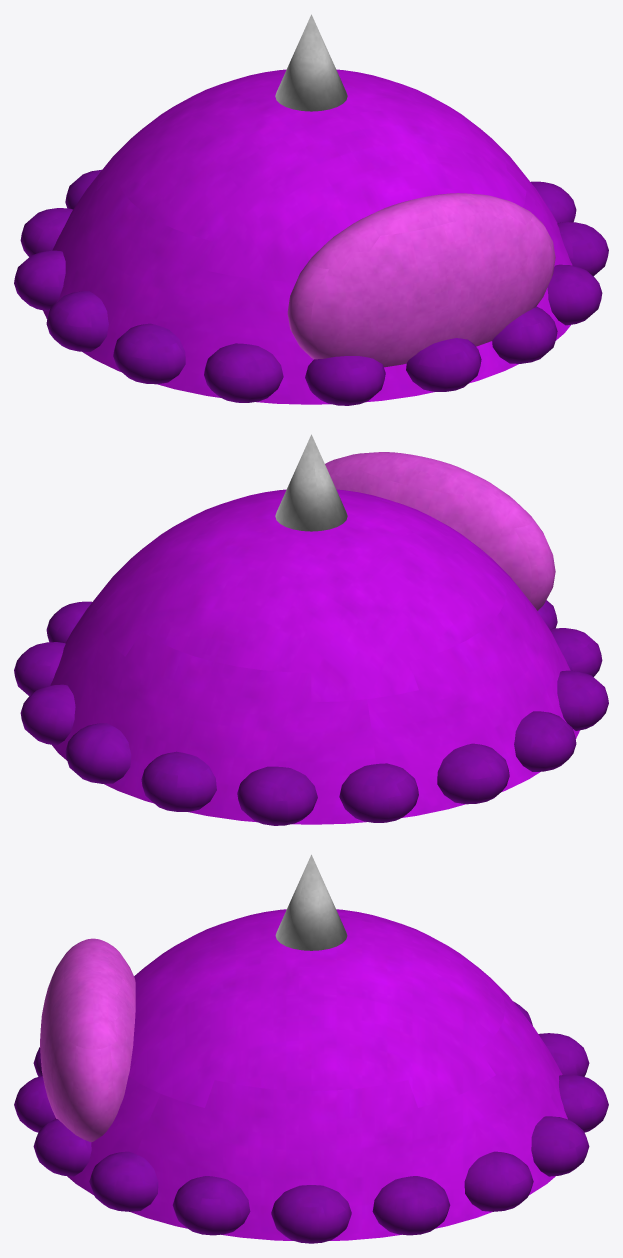
3 renders of one model, top to bottom at view 1: azimuth 30°, elevation 25°; view 2: azimuth 150°, elevation 25°; view 3: azimuth 270°, elevation 25°, orthographic.
Visible parts, largest first — view 1: Dome, Face, Skirt, Horn; view 2: Dome, Skirt, Face, Horn; view 3: Dome, Skirt, Face, Horn.
Part boxes in pixels (x1,y1,x2,y2): Dome: [43, 69, 572, 404]; Face: [287, 193, 555, 367]; Skirt: [14, 169, 608, 405]; Horn: [275, 14, 347, 111]; Dome: [50, 489, 579, 824]; Skirt: [14, 600, 608, 825]; Face: [325, 452, 555, 610]; Horn: [275, 434, 347, 531]; Dome: [55, 909, 567, 1240]; Skirt: [14, 1001, 608, 1243]; Face: [40, 938, 135, 1142]; Horn: [275, 854, 347, 950].
Size of the model in its own units: 0.736 by 0.377 by 0.736.
4 materials, 4 textured.
